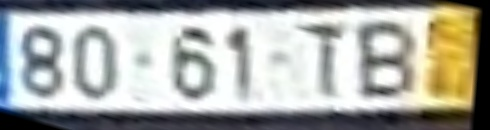0: (70, 22, 122, 104)
1: (221, 24, 260, 104)
6: (165, 23, 222, 108)
8: (15, 21, 70, 102)
B: (349, 21, 423, 103)
T: (291, 22, 352, 105)
